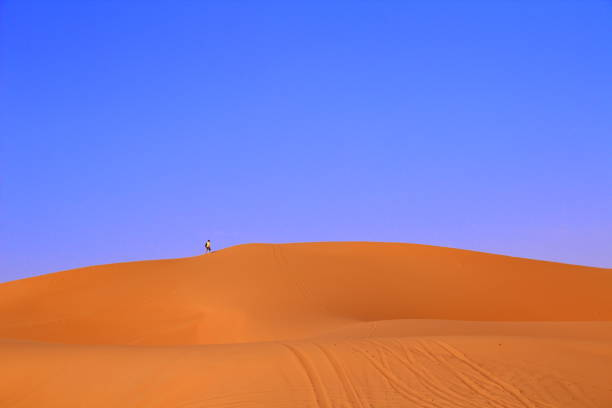vehicle_track: (357, 338, 533, 407), (308, 342, 369, 406), (288, 348, 335, 407)
